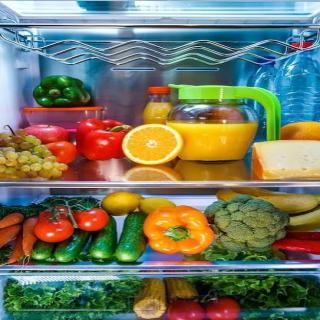Drinks: (271, 43, 320, 125)
Juice: (182, 82, 241, 162), (139, 82, 172, 124)
fruit: (0, 145, 57, 177), (22, 123, 71, 141)
